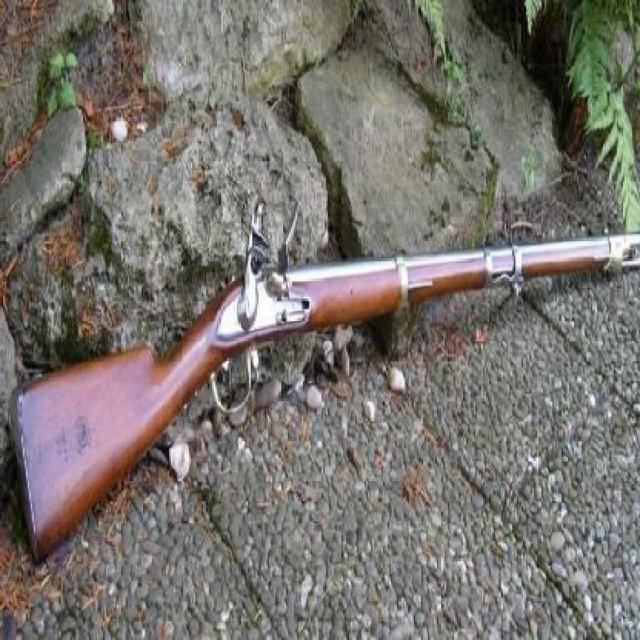weapon: (11, 222, 640, 567)
